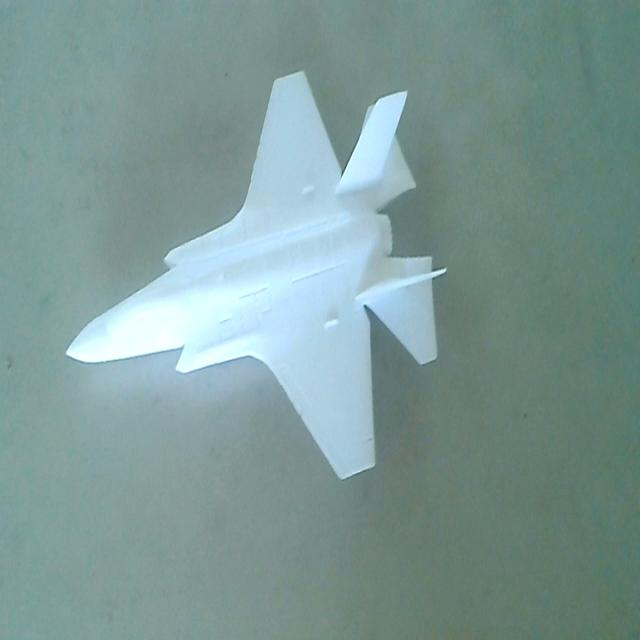Jet: (57, 66, 448, 489)
